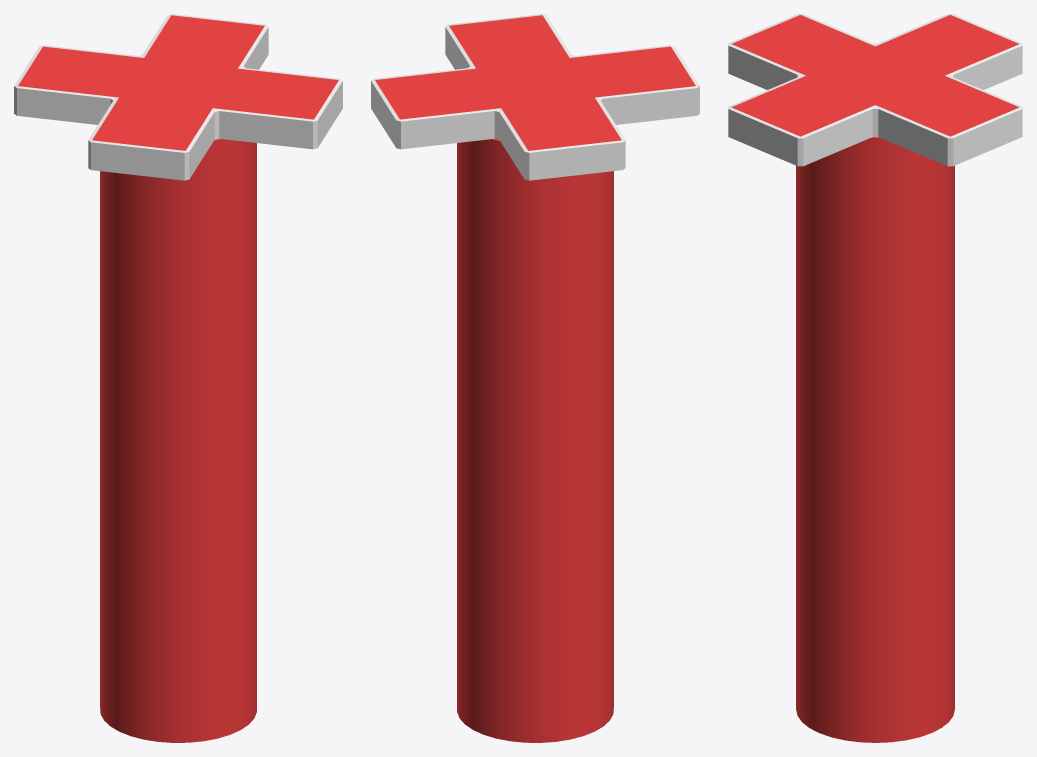
File: x_long.fbx
3 renders of one model, left to right at view 1: azimuth 30°, elevation 25°; view 2: azimuth 150°, elevation 25°; view 3: azimuth 270°, elevation 25°, orthographic.
Parts seen in each view (by area): view 1: X-pipe-long, X-mark.001; view 2: X-pipe-long, X-mark.001; view 3: X-pipe-long, X-mark.001.
Boxes of the visible parts, bbox=[...] form: X-pipe-long: bbox=[100, 138, 256, 742]; X-mark.001: bbox=[14, 14, 342, 180]; X-pipe-long: bbox=[457, 138, 613, 742]; X-mark.001: bbox=[371, 14, 699, 180]; X-pipe-long: bbox=[796, 137, 954, 742]; X-mark.001: bbox=[728, 14, 1022, 166].
Bounding box in the file's own units: 92.51 × 220 × 92.51.
